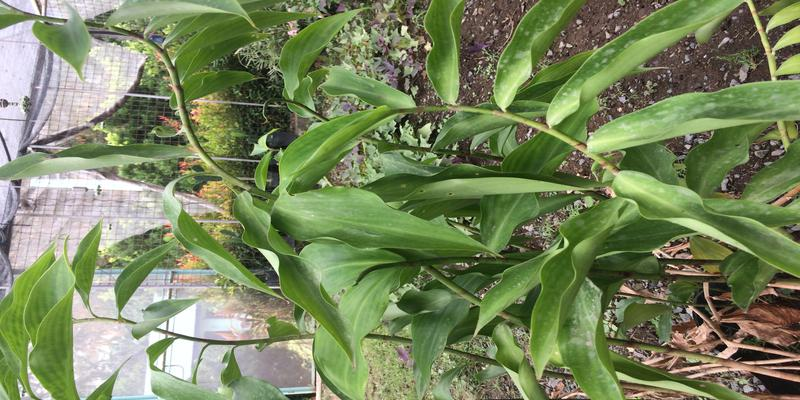Insulin: (140, 135, 788, 388)
